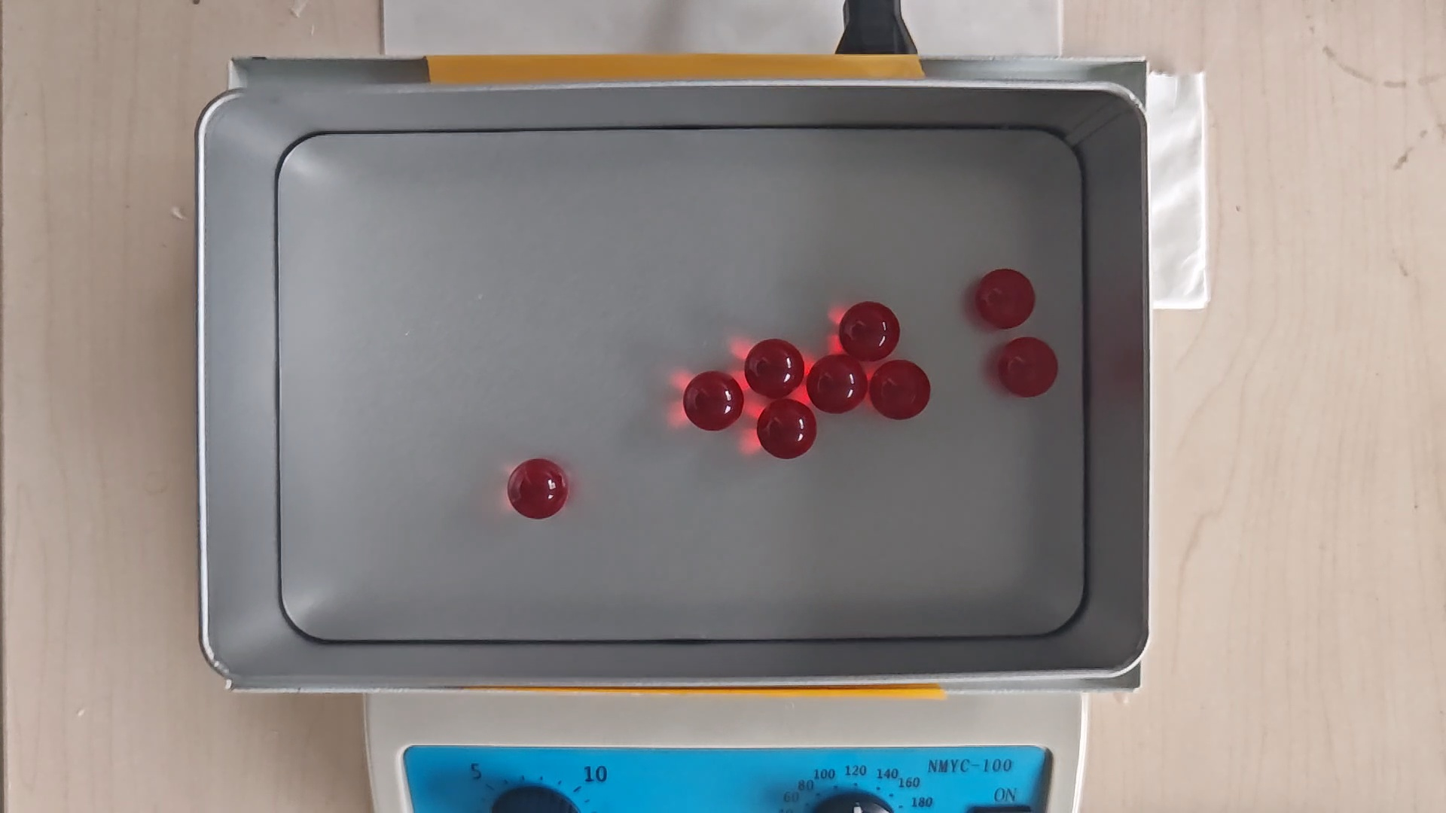ball: (997, 336, 1059, 399), (507, 458, 569, 521), (683, 370, 743, 433), (870, 360, 931, 421), (839, 301, 900, 361), (757, 399, 817, 460), (976, 268, 1035, 329), (808, 355, 867, 415), (745, 338, 804, 398)
container: (278, 127, 1085, 641)
